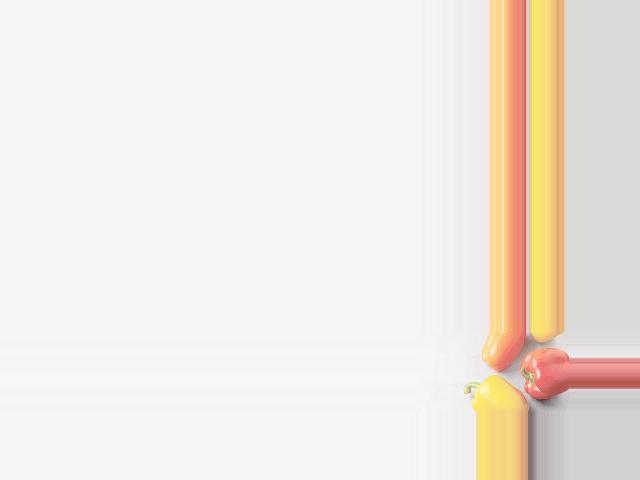bell_pepper: (521, 348, 568, 403)
